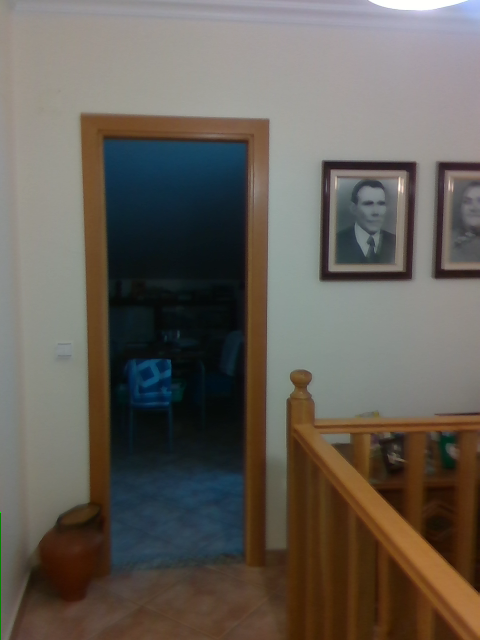open: (85, 114, 270, 572)
